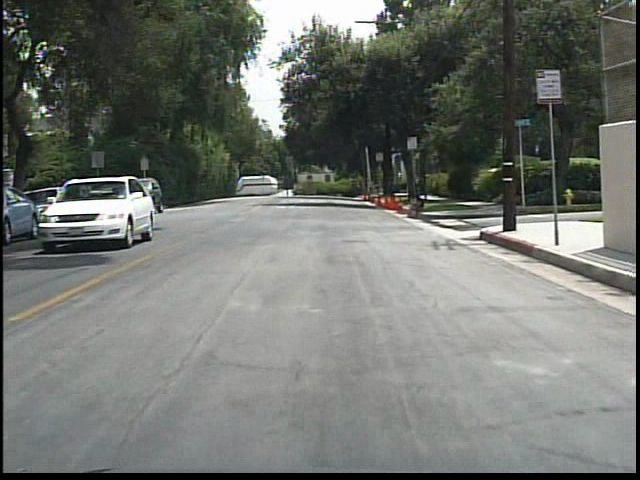person: (404, 189, 432, 221)
